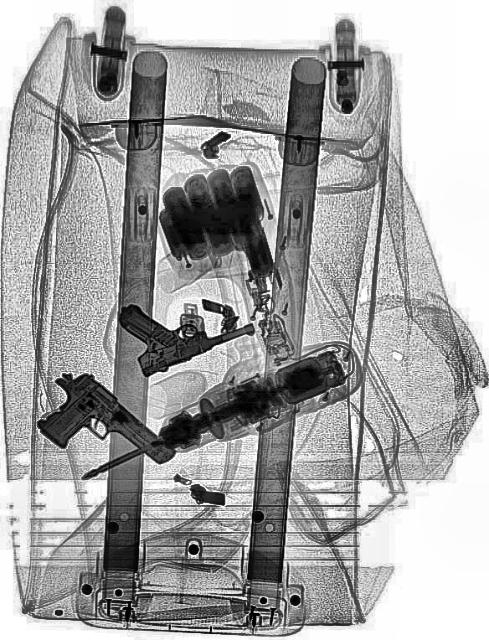Gun: (27, 354, 177, 516), (116, 263, 257, 381)
